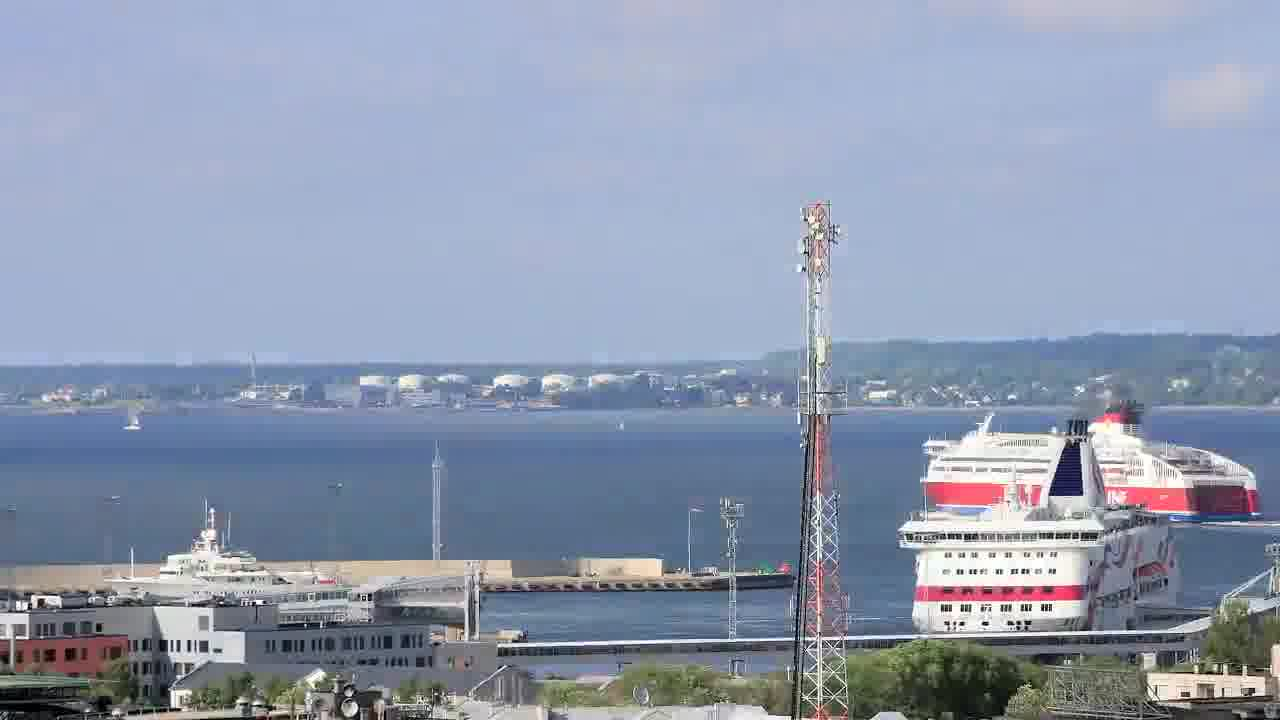type-2: (115, 390, 153, 450)
type-3: (889, 419, 1189, 638), (904, 422, 1278, 526), (89, 518, 402, 620)
